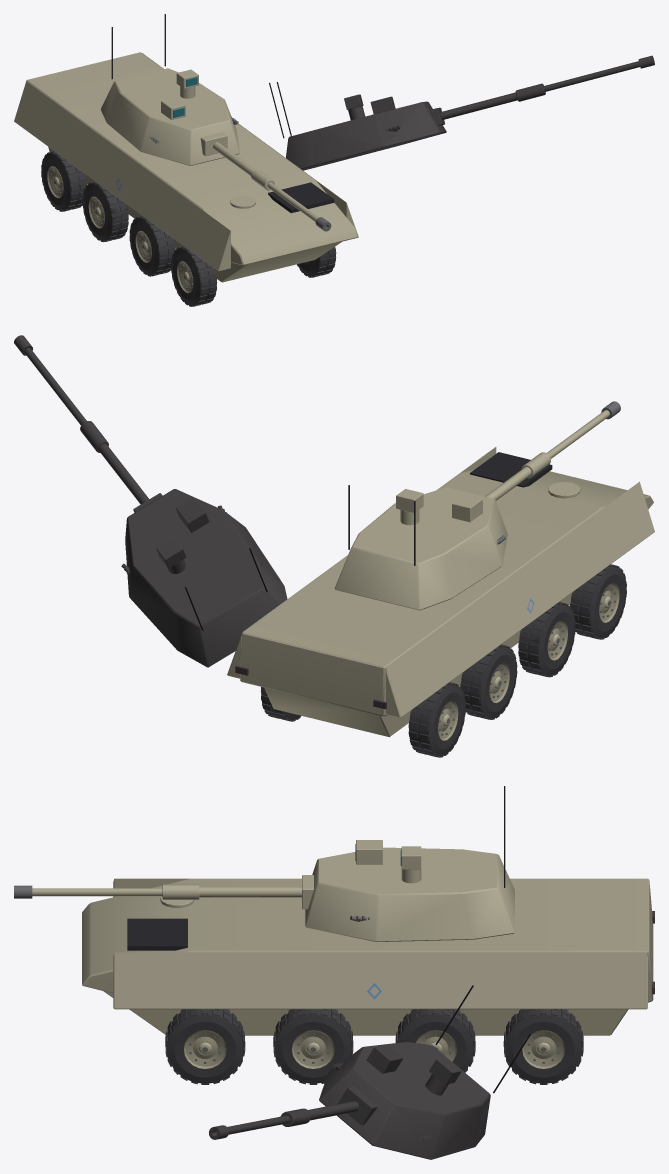
File: directFire__type_16_mcv.glb
3 views of the same model, one above another, from view 1: azimuth 30°, elevation 25°; view 2: azimuth 150°, elevation 25°; view 3: azimuth 270°, elevation 25° (orthographic). The views are drawn at different scales.
Visible parts, largest first — view 1: Hull_Mesh, Turret_Mesh, Wreck, Wheel_L1_Mesh, Wheel_L3_Mesh, Wheel_L2_Mesh, Wheel_L0_Mesh, Gun_Mesh, Wheel_R3_Mesh; view 2: Hull_Mesh, Wreck, Turret_Mesh, Wheel_L2_Mesh, Wheel_L0_Mesh, Wheel_L1_Mesh, Wheel_L3_Mesh, Gun_Mesh; view 3: Hull_Mesh, Turret_Mesh, Wreck, Wheel_R3_Mesh, Wheel_R0_Mesh, Wheel_R2_Mesh, Gun_Mesh, Wheel_R1_Mesh.
Boxes of the visible parts, x1=… form: Hull_Mesh: x1=14, y1=52, x2=358, y2=282; Turret_Mesh: x1=100, y1=14, x2=239, y2=165; Wreck: x1=53, y1=55, x2=654, y2=306; Wheel_L1_Mesh: x1=82, y1=181, x2=128, y2=242; Wheel_L3_Mesh: x1=171, y1=246, x2=217, y2=306; Wheel_L2_Mesh: x1=129, y1=215, x2=175, y2=276; Wheel_L0_Mesh: x1=41, y1=151, x2=86, y2=211; Gun_Mesh: x1=200, y1=132, x2=331, y2=231; Wheel_R3_Mesh: x1=297, y1=247, x2=336, y2=277; Hull_Mesh: x1=227, y1=447, x2=654, y2=737; Wreck: x1=14, y1=335, x2=618, y2=753; Turret_Mesh: x1=334, y1=485, x2=507, y2=610; Wheel_L2_Mesh: x1=518, y1=602, x2=575, y2=677; Wheel_L0_Mesh: x1=408, y1=682, x2=465, y2=757; Wheel_L1_Mesh: x1=460, y1=644, x2=517, y2=719; Wheel_L3_Mesh: x1=570, y1=564, x2=626, y2=639; Gun_Mesh: x1=485, y1=401, x2=620, y2=500; Hull_Mesh: x1=82, y1=878, x2=654, y2=1035; Turret_Mesh: x1=305, y1=786, x2=514, y2=941; Wreck: x1=209, y1=985, x2=530, y2=1159; Wheel_R3_Mesh: x1=165, y1=1009, x2=245, y2=1084; Wheel_R0_Mesh: x1=503, y1=1009, x2=583, y2=1084; Wheel_R2_Mesh: x1=273, y1=1009, x2=353, y2=1084; Gun_Mesh: x1=14, y1=875, x2=313, y2=909; Wheel_R1_Mesh: x1=395, y1=1009, x2=475, y2=1072.
Size of what is drawn, in the model's own units: 10.08 by 3.71 by 9.02.
